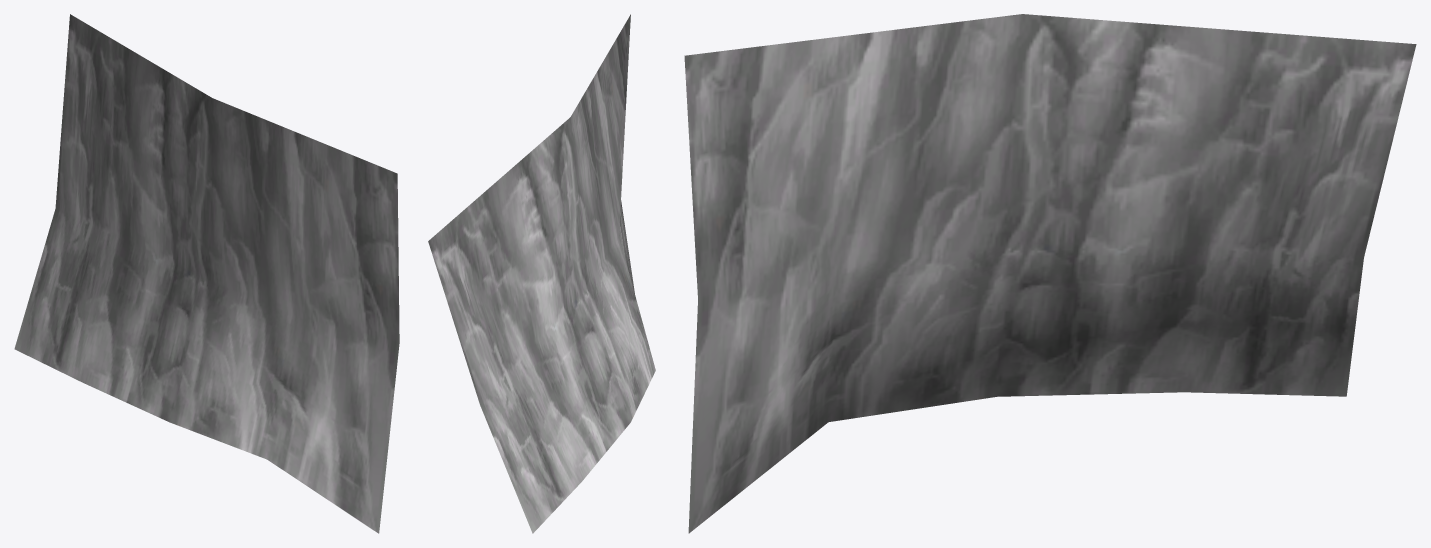
File: SWORDLIGHT20_PS-AREA03_206.fbx
3 views of the same model, side by side, from view 1: azimuth 30°, elevation 25°; view 2: azimuth 150°, elevation 25°; view 3: azimuth 270°, elevation 25° (orthographic). The views are drawn at different scales.
Visible parts, largest first — view 1: SWORDLIGHT20_PS-AREA03_206; view 2: SWORDLIGHT20_PS-AREA03_206; view 3: SWORDLIGHT20_PS-AREA03_206.
Part boxes in pixels (left/top/right/bottom): SWORDLIGHT20_PS-AREA03_206: left=14, top=14, right=399, bottom=533; SWORDLIGHT20_PS-AREA03_206: left=428, top=14, right=655, bottom=533; SWORDLIGHT20_PS-AREA03_206: left=684, top=14, right=1416, bottom=533.
Size of the model in its own units: 20399 by 46924 by 63520.
1 material, 1 textured.
